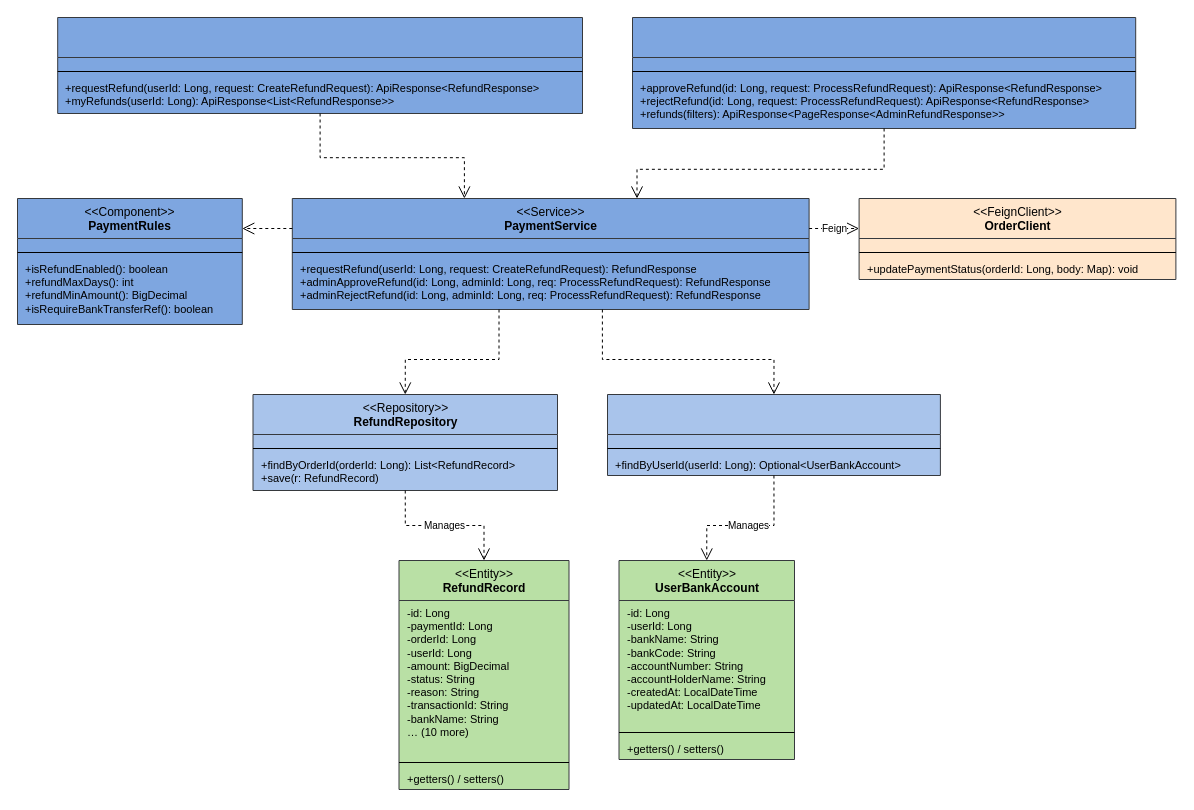
Some shapes in this 1194 by 810 pixel diagram are drawn without their labels. Here are the shapes that lost their labels. From the top down, the box of each, then its label:
(57, 16, 582, 114): <<Controller>> PaymentController
(632, 16, 1136, 128): <<Controller>> AdminPaymentController
(606, 394, 940, 476): <<Repository>> UserBankAccountRepository
